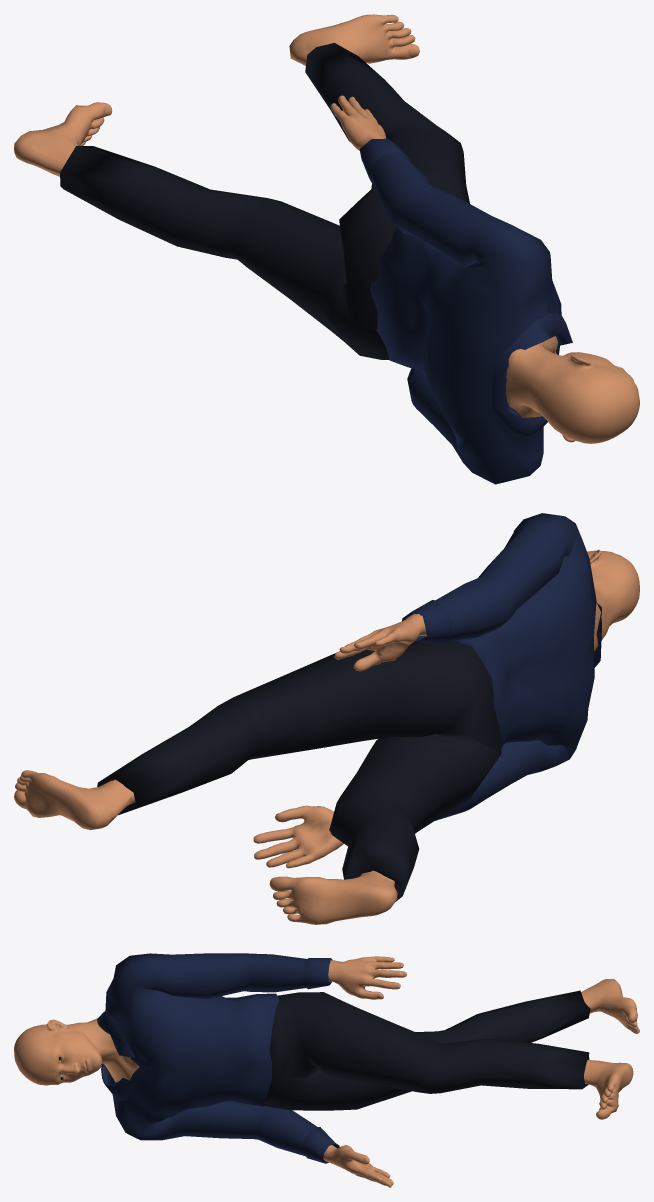
File: walk.obj
3 views of the same model, one above another, from view 1: azimuth 30°, elevation 25°; view 2: azimuth 150°, elevation 25°; view 3: azimuth 270°, elevation 25° (orthographic). The views are drawn at different scales.
Size of the model in its own units: 0.8785 by 0.5545 by 1.67.
